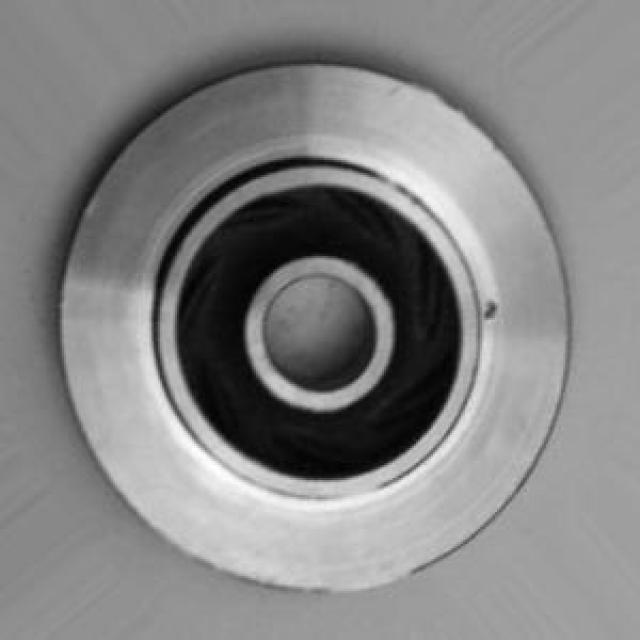Defect: (484, 289, 501, 326)
